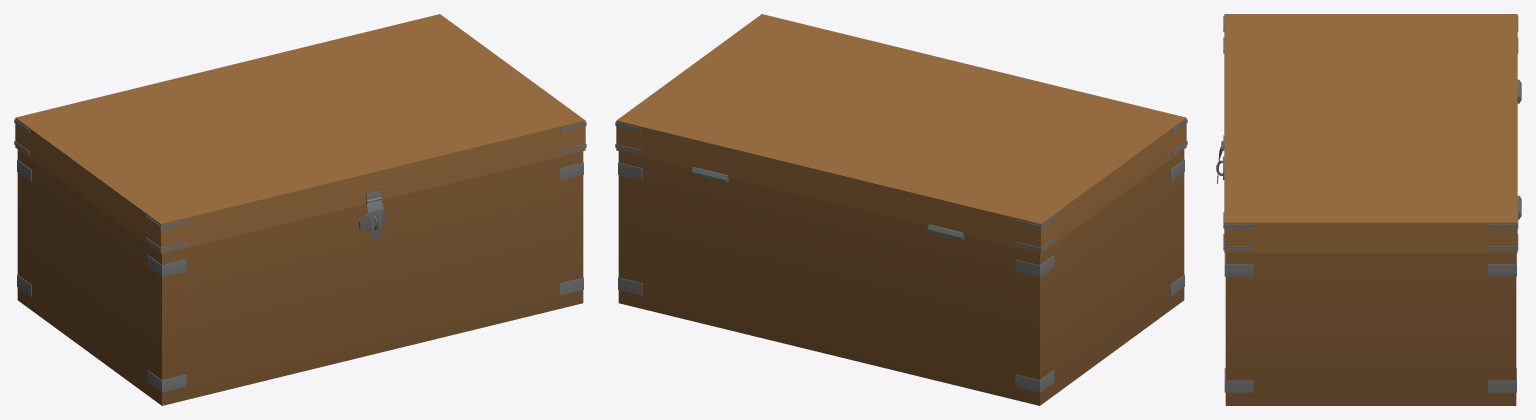
The model's file is Prop_Wooden_Chest_01.obj.
The picture shows the model from 3 angles, left to right: view 1: azimuth 30°, elevation 25°; view 2: azimuth 150°, elevation 25°; view 3: azimuth 270°, elevation 25°; orthographic projection.
Parts seen in each view (by area): view 1: Prop_Wooden_Chest_01; view 2: Prop_Wooden_Chest_01; view 3: Prop_Wooden_Chest_01.
Boxes of the visible parts, bbox=[...] form: Prop_Wooden_Chest_01: bbox=[14, 14, 586, 405]; Prop_Wooden_Chest_01: bbox=[615, 14, 1187, 405]; Prop_Wooden_Chest_01: bbox=[1216, 14, 1521, 405].
Bounding box in the file's own units: 1.13 × 0.4649 × 0.6987.
1 material, 1 textured.
